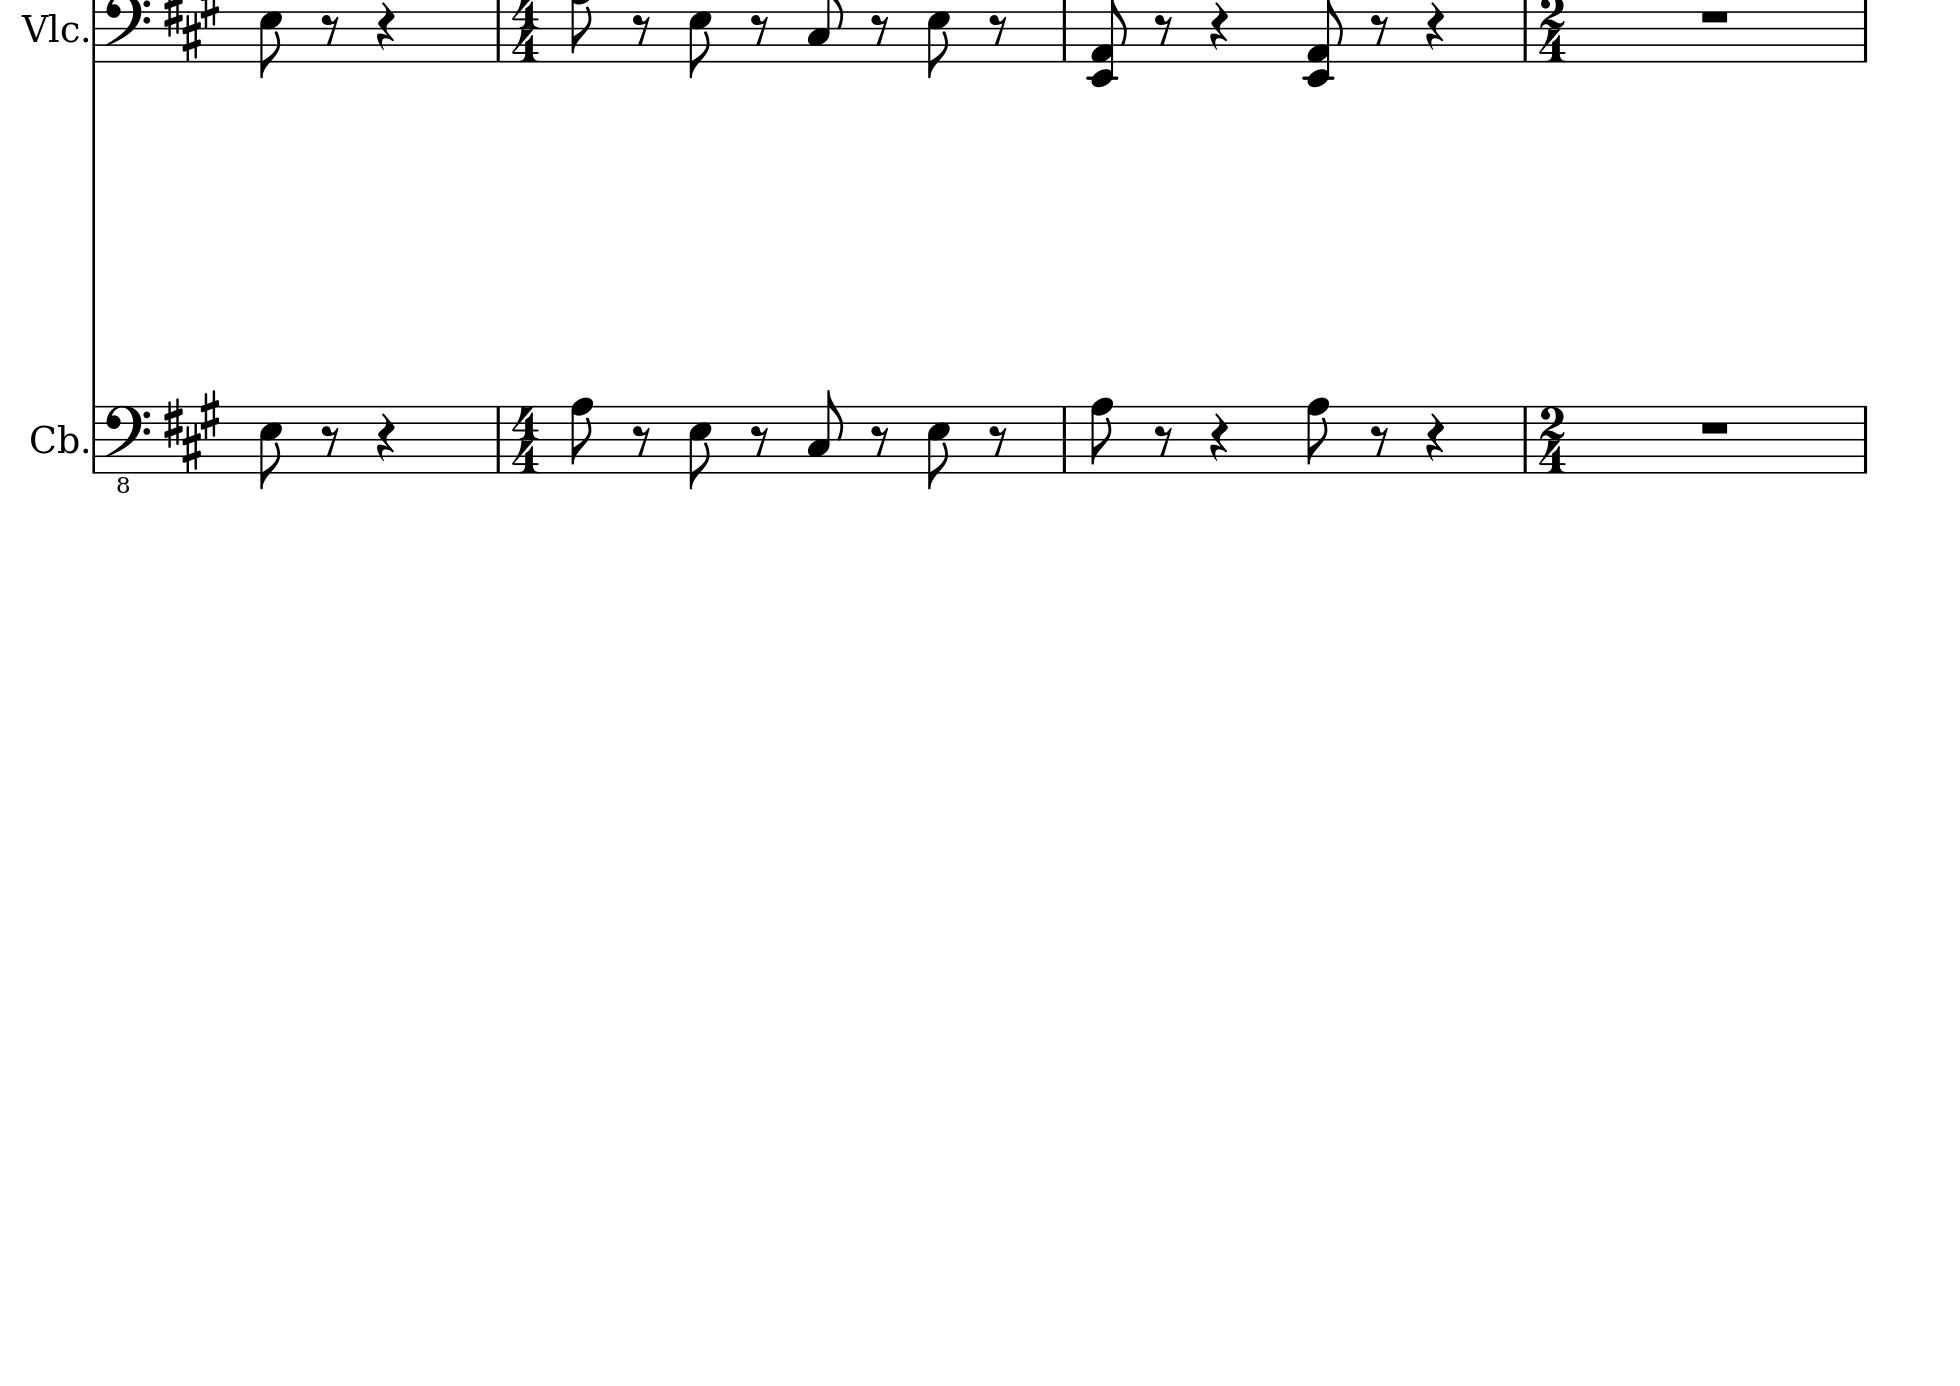2: (1537, 403, 1569, 441), (1537, 1, 1567, 28)
4: (510, 403, 541, 439), (510, 28, 543, 61), (1537, 28, 1569, 61), (510, 439, 541, 472), (1537, 439, 1569, 472), (511, 1, 540, 28)
8_3: (805, 388, 844, 475)
8_5: (256, 403, 283, 490), (925, 403, 952, 490), (685, 403, 712, 489)
8_8: (568, 396, 595, 475), (1089, 396, 1116, 475), (1305, 396, 1332, 475)
A_S: (162, 388, 220, 472), (162, 1, 220, 61)
Cb: (28, 420, 78, 457)
Fclef: (103, 1, 151, 63)
Lower_Fclef: (103, 402, 151, 493)
Rests1: (1696, 415, 1734, 436), (1696, 6, 1734, 25)
Rests4: (373, 1, 396, 52), (375, 411, 396, 463), (1425, 411, 1446, 463), (1209, 1, 1230, 52), (1209, 411, 1230, 462), (1425, 3, 1446, 52)
Rests8: (1152, 13, 1176, 46), (868, 421, 889, 457), (870, 12, 891, 46), (987, 12, 1008, 46), (748, 421, 769, 456), (1153, 423, 1174, 457), (319, 12, 340, 45), (748, 12, 769, 45), (1369, 13, 1390, 46), (319, 423, 340, 456), (631, 423, 652, 456), (1369, 423, 1389, 457), (631, 13, 652, 45), (988, 423, 1008, 456)
Single_barline: (1056, 405, 1074, 472), (1857, 405, 1873, 472), (1518, 405, 1533, 472), (1056, 1, 1072, 61), (1857, 1, 1873, 61), (490, 1, 505, 61), (1518, 1, 1533, 61), (87, 406, 100, 472), (87, 1, 100, 63)
TimeSig: (510, 405, 541, 475), (1537, 405, 1567, 474), (1537, 1, 1569, 63)
Vlc: (19, 7, 76, 49)
